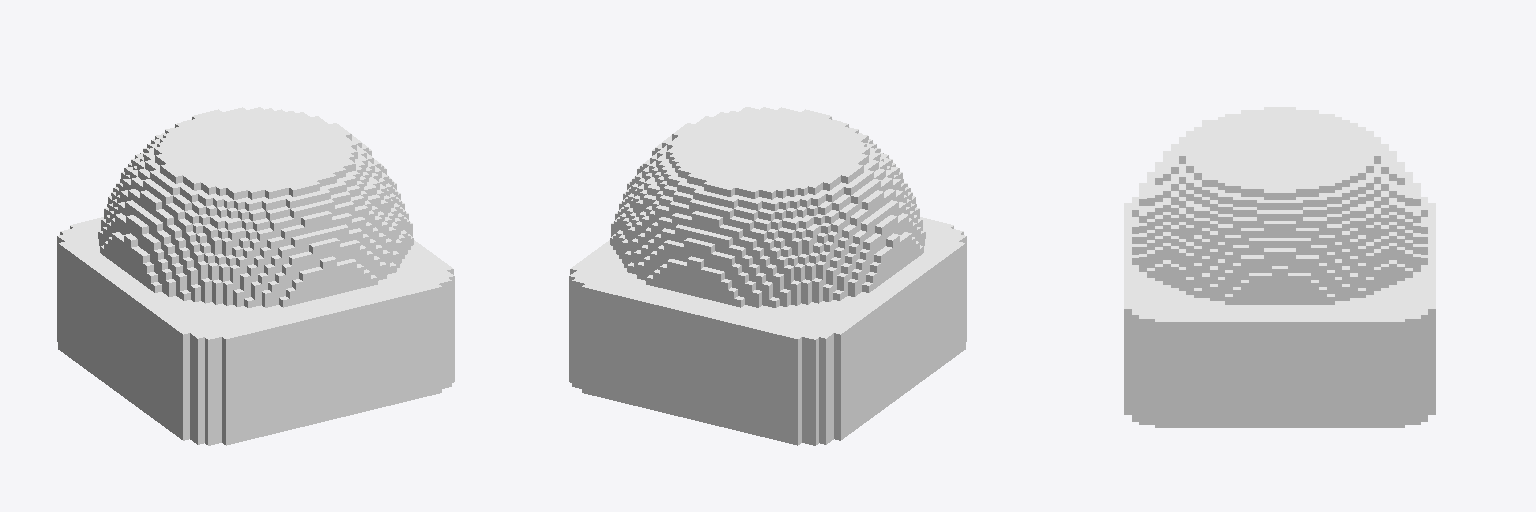
File: busser.vox.obj
3 views of the same model, side by side, from view 1: azimuth 30°, elevation 25°; view 2: azimuth 150°, elevation 25°; view 3: azimuth 270°, elevation 25° (orthographic).
Parts seen in each view (by area): view 1: object 1; view 2: object 1; view 3: object 1.
Part boxes in pixels (left/top/right/bottom): object 1: left=57, top=107, right=454, bottom=445; object 1: left=569, top=107, right=966, bottom=445; object 1: left=1124, top=107, right=1435, bottom=427.
Bounding box in the file's own units: 4 × 3 × 4.